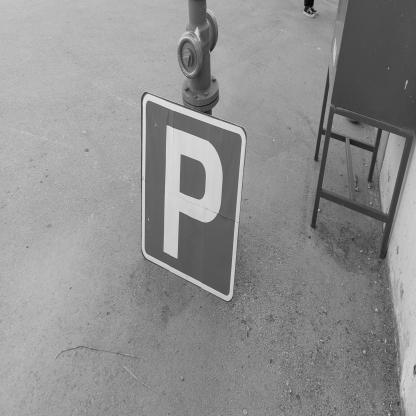Parking-Sign: (142, 92, 248, 302)
